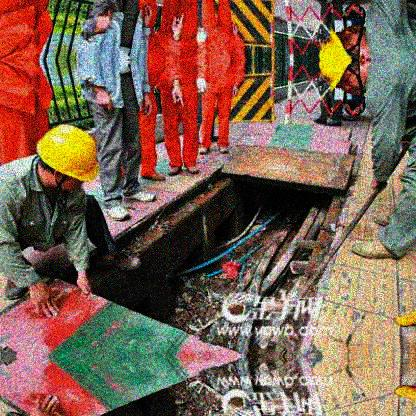helmet: (36, 123, 99, 192), (317, 23, 369, 61), (317, 61, 368, 96)
